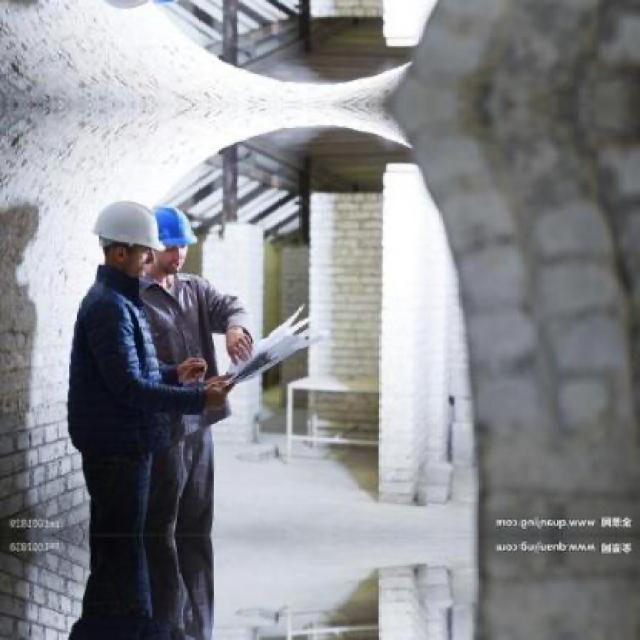helmet: (92, 199, 165, 279), (137, 205, 197, 279)
